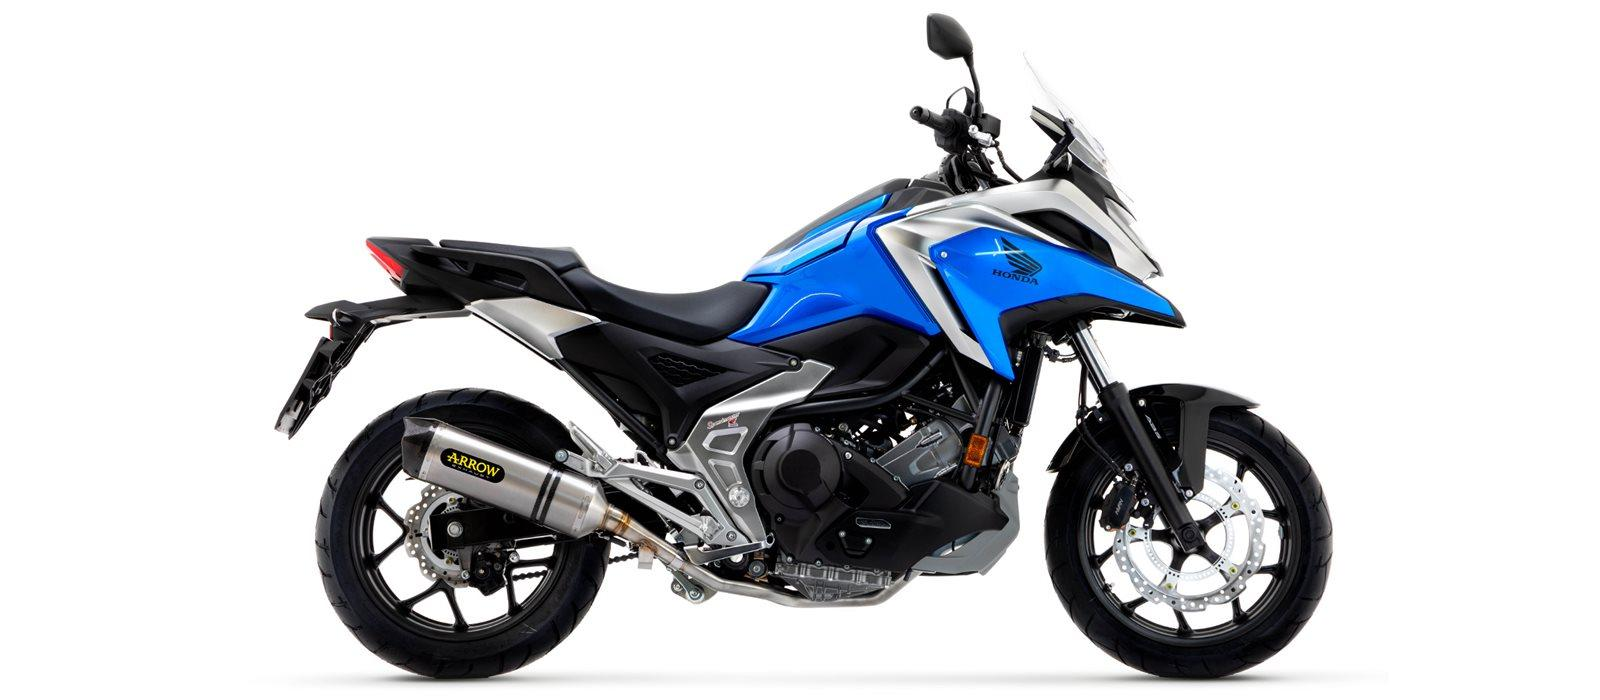engine-chasis: (666, 315, 1022, 602), (607, 478, 722, 540)
exhaust: (401, 416, 923, 608)
frontside: (877, 51, 1261, 551)
handlebar: (908, 12, 1014, 194), (1028, 104, 1073, 172)
motorbike: (276, 11, 1333, 677)
rearside: (273, 236, 801, 551), (430, 508, 556, 552)
seat: (439, 239, 768, 342)
tank: (726, 169, 957, 347)
wheel: (314, 387, 611, 680), (1043, 405, 1333, 680), (1043, 343, 1132, 483), (994, 146, 1024, 183), (608, 552, 638, 565)
